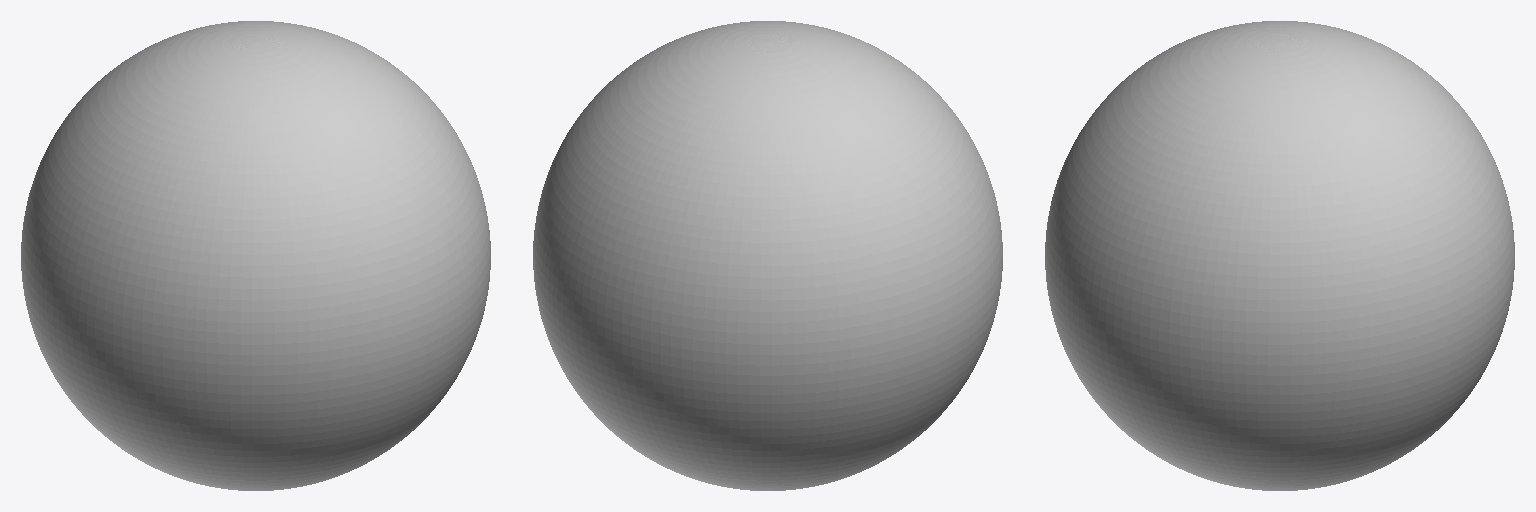
File: Jupiter Blender.obj
The picture shows the model from 3 angles: view 1: azimuth 30°, elevation 25°; view 2: azimuth 150°, elevation 25°; view 3: azimuth 270°, elevation 25°; orthographic projection.
Parts seen in each view (by area): view 1: atmosphere_Sphere.002; view 2: atmosphere_Sphere.002; view 3: atmosphere_Sphere.002.
Boxes of the visible parts, x1,y1,x2,y2 form: atmosphere_Sphere.002: [21, 21, 490, 490]; atmosphere_Sphere.002: [533, 21, 1002, 490]; atmosphere_Sphere.002: [1045, 21, 1514, 490].
Size of the model in its own units: 2 by 2.01 by 2.